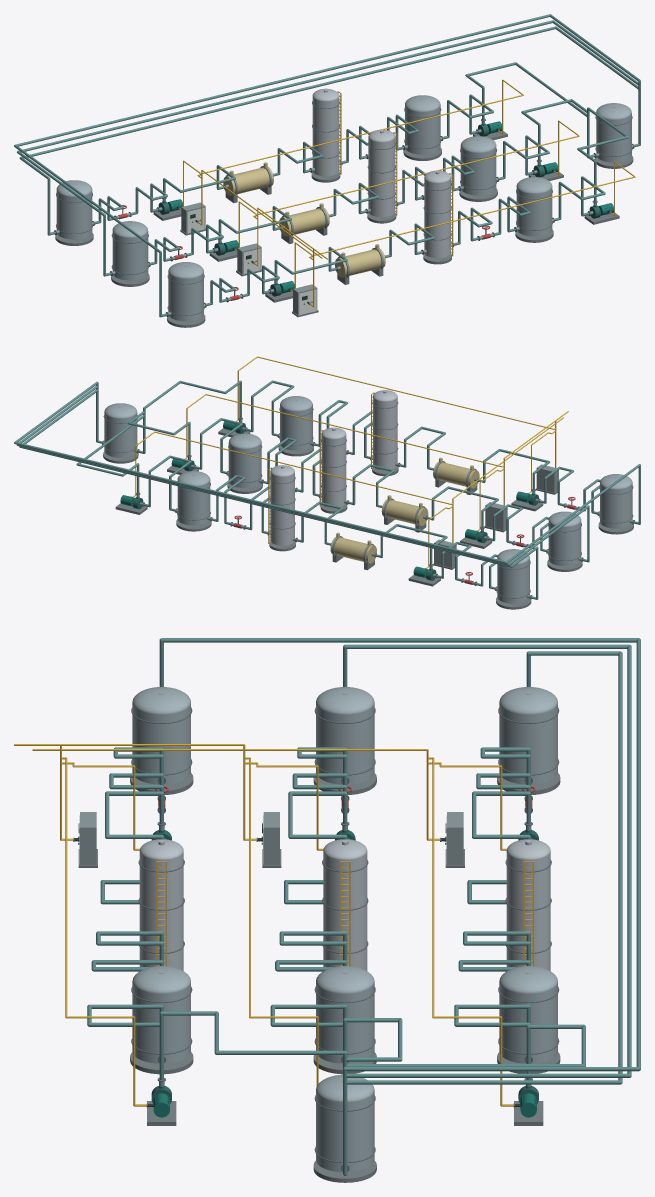
The model's file is demo-utility-plant-r1.glb.
3 renders of one model, top to bottom at view 1: azimuth 30°, elevation 25°; view 2: azimuth 150°, elevation 25°; view 3: azimuth 270°, elevation 25°, orthographic. The views are drawn at different scales.
Parts seen in each view (by area): view 1: LINE-031, LINE-020, C-102, C-101, LINE-009, C-103, TK-103, TK-102, TK-202, TK-203, TK-201, TK-101 (+20 smaller); view 2: LINE-031, C-102, C-103, C-101, TK-202, TK-103, TK-203, TK-301, TK-102, TK-201, LINE-020, TK-101 (+24 smaller); view 3: LINE-031, TK-301, TK-203, TK-101, TK-102, C-102, TK-103, C-101, C-103, LINE-020, TK-201, TK-202 (+22 smaller).
Boxes of the visible parts, box(x1,y1,x2,y2) form: LINE-031: box(14, 14, 640, 317); LINE-020: box(17, 20, 640, 276); C-102: box(365, 129, 398, 223); C-101: box(309, 88, 342, 182); LINE-009: box(19, 26, 640, 235); C-103: box(421, 170, 454, 264); TK-103: box(166, 262, 206, 327); TK-102: box(110, 221, 150, 286); TK-202: box(458, 136, 498, 201); TK-203: box(514, 177, 554, 242); TK-201: box(402, 95, 443, 160); TK-101: box(54, 180, 94, 245); LINE-031: box(14, 381, 640, 563); C-102: box(318, 427, 348, 513); C-103: box(370, 390, 400, 476); C-101: box(267, 465, 297, 551); TK-202: box(226, 433, 263, 493); TK-103: box(597, 474, 634, 534); TK-203: box(277, 396, 314, 456); TK-301: box(102, 403, 139, 463); TK-102: box(546, 511, 583, 571); TK-201: box(175, 471, 212, 531); LINE-020: box(17, 386, 589, 565); TK-101: box(495, 549, 532, 609); LINE-031: box(159, 638, 640, 1174); TK-301: box(313, 1074, 376, 1182); TK-203: box(130, 966, 193, 1074); TK-101: box(497, 687, 560, 794); TK-102: box(313, 687, 376, 794); C-102: box(322, 839, 368, 970); TK-103: box(130, 687, 193, 794); C-101: box(505, 839, 551, 970); C-103: box(138, 839, 184, 970); LINE-020: box(343, 644, 631, 1173); TK-201: box(497, 966, 560, 1073); TK-202: box(313, 966, 376, 1074).
Bounding box in the file's own units: 55.54 × 8.58 × 34.17.
